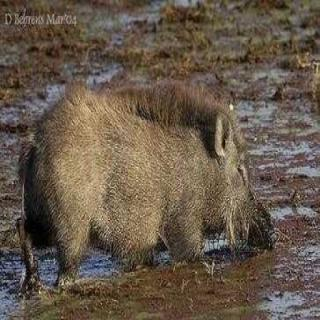Pig: (22, 55, 288, 308)
